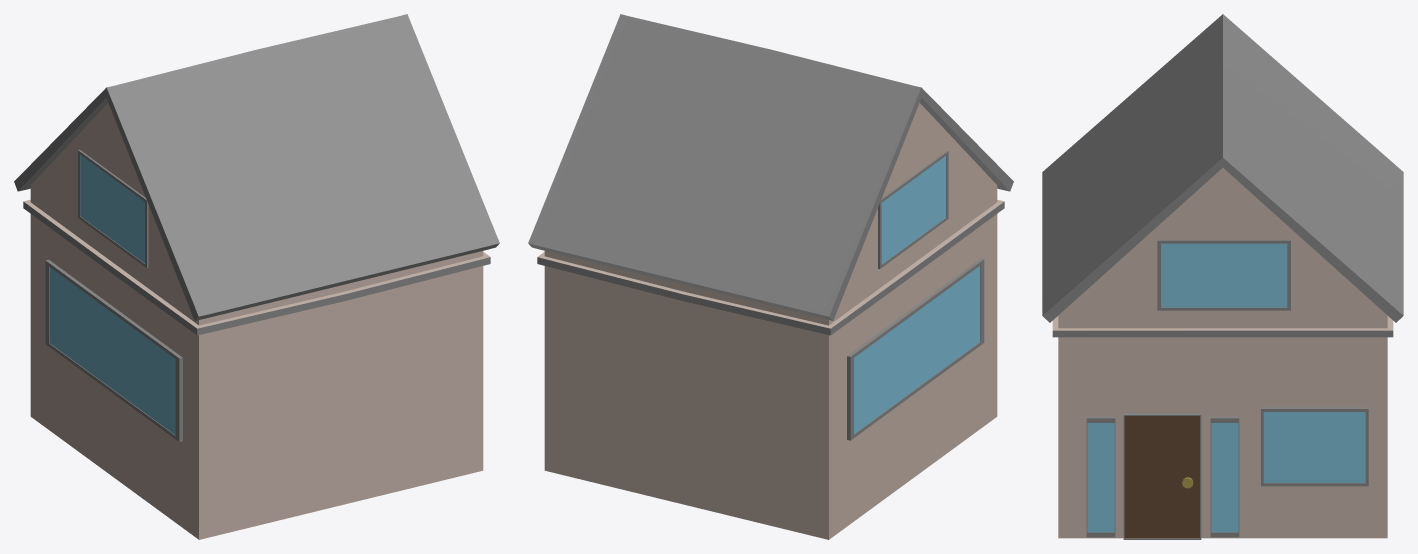
The model's file is ShortHouse5.fbx.
3 renders of one model, left to right at view 1: azimuth 30°, elevation 25°; view 2: azimuth 150°, elevation 25°; view 3: azimuth 270°, elevation 25°, orthographic. The views are drawn at different scales.
Visible parts, largest first — view 1: BasicHouse.001; view 2: BasicHouse.001; view 3: BasicHouse.001.
Part boxes in pixels (x1,y1,x2,y2): BasicHouse.001: (14, 14, 499, 539); BasicHouse.001: (528, 14, 1013, 539); BasicHouse.001: (1042, 14, 1403, 539).
Size of the model in its own units: 1034 by 1291 by 1096.
